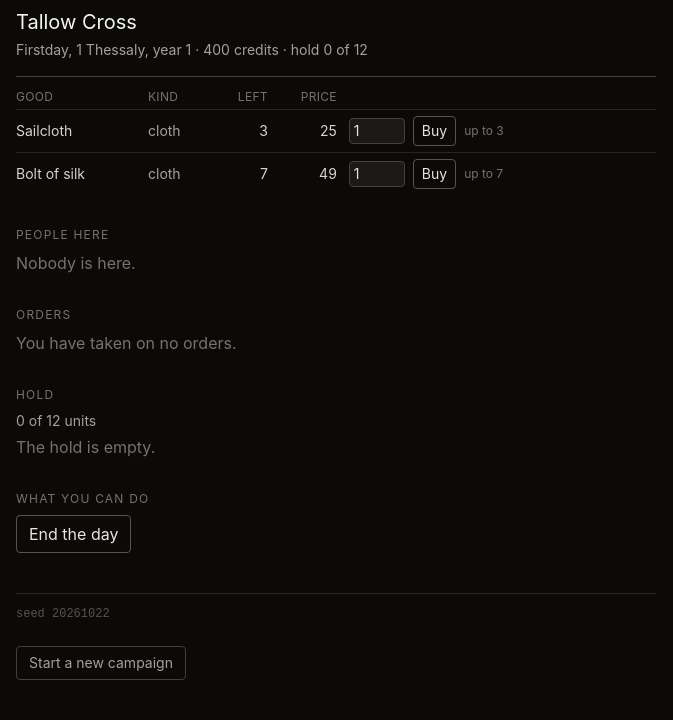
Test: saving and resuming a campaign › starts a new campaign only when asked twice, and saves over the old one then
(page scrolled)
Click the button "End the day" at (74, 534), box [16,515,131,553]
(page scrolled)
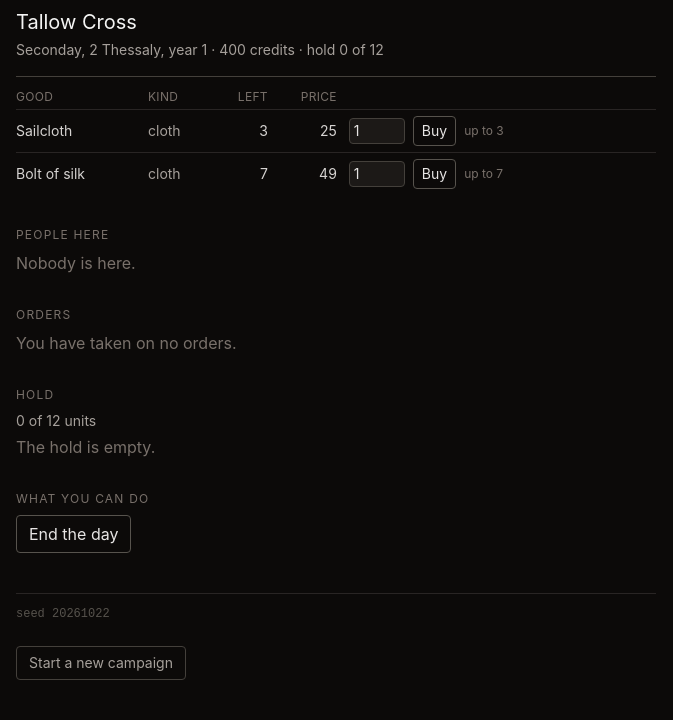
Click the button "Start a new campaign" at (101, 663), box [16,646,186,680]
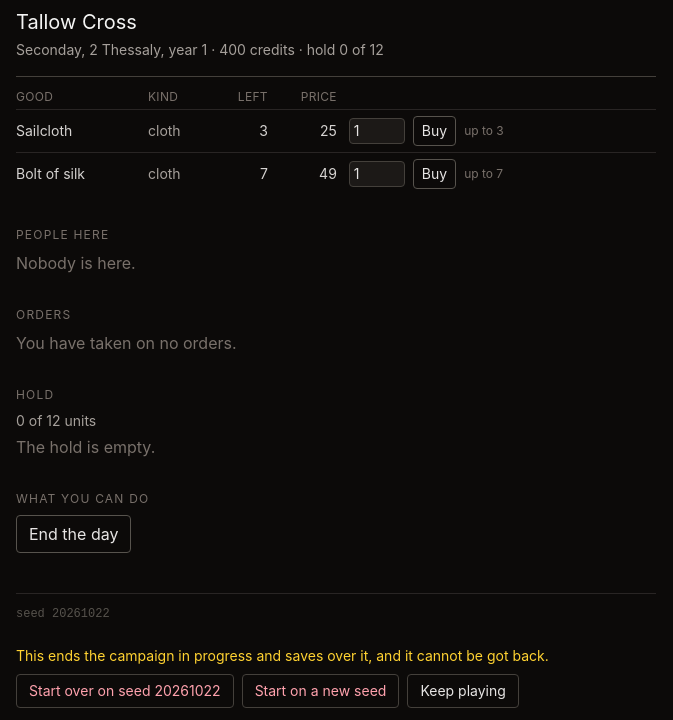
Result: the text "ends the campaign in progress" is shown at [16,647,549,664]
Click the button "Keep playing" at (463, 691), box [407,674,519,708]
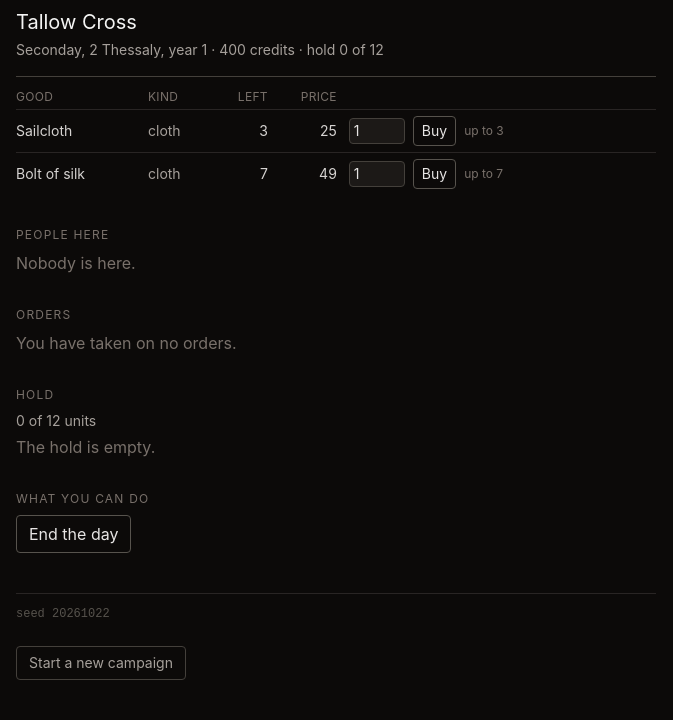
Click the button "Start a new campaign" at (101, 663), box [16,646,186,680]
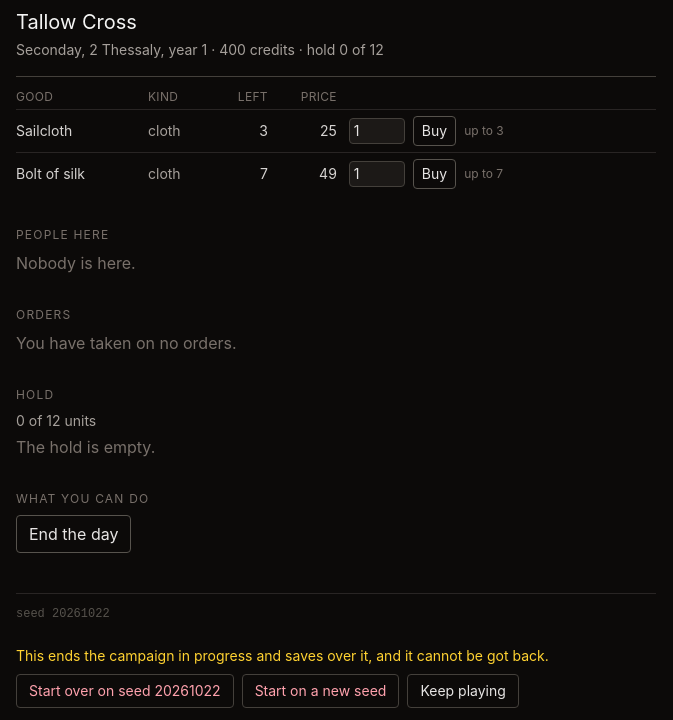
Click the button "Start over on seed 20261022" at (125, 691), box [16,674,234,708]
(page scrolled)
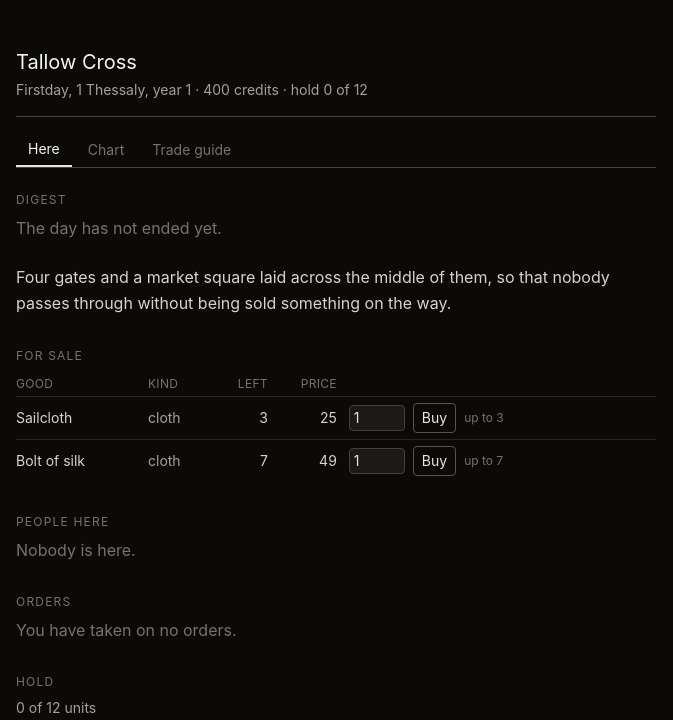
Result: the text "The day has not ended yet." is shown at [16,218,222,238]
